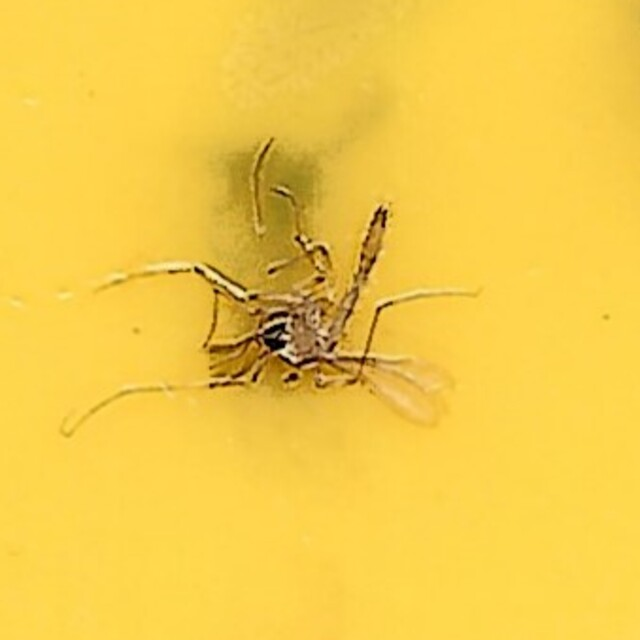Nematocera: (189, 195, 451, 445)
